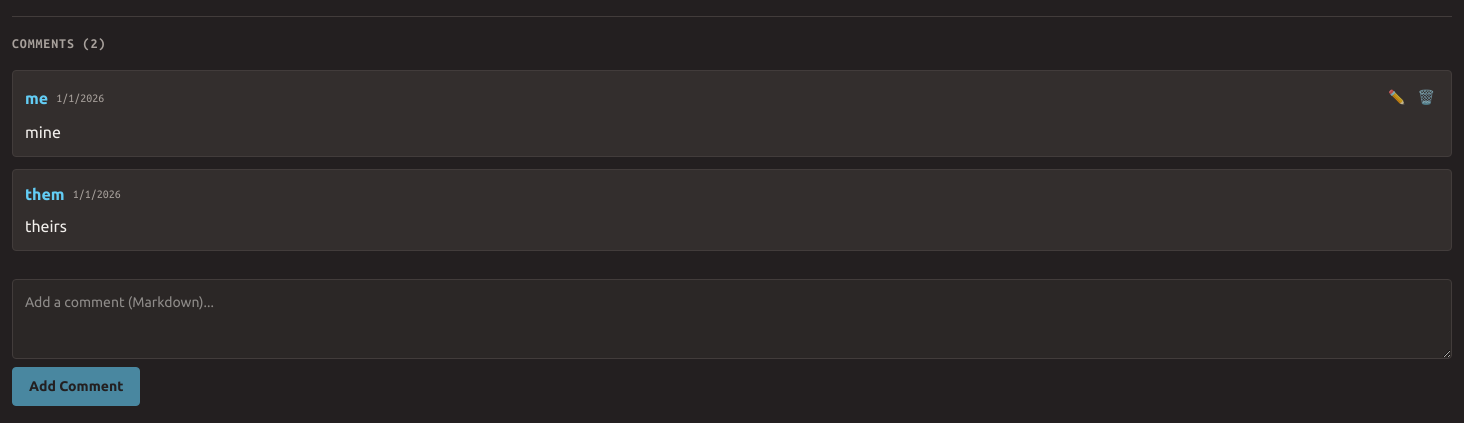
it: Comments › removes a comment only after the server accepted the delete
Click the button titled "Delete comment". click: (1426, 98)
box: [1414,83,1439,112]
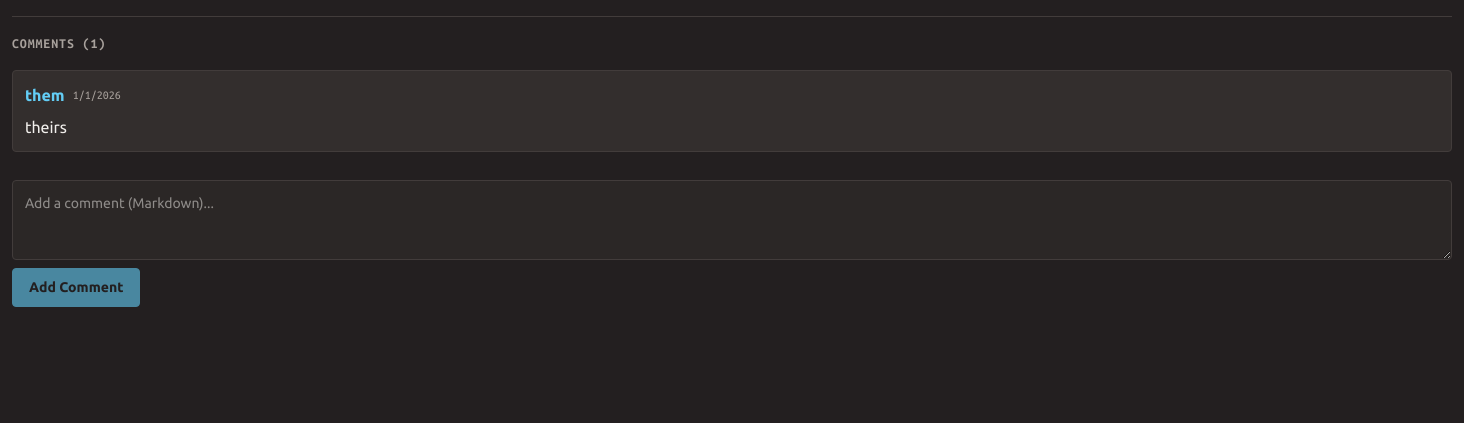
Result: the text "mine" is gone
